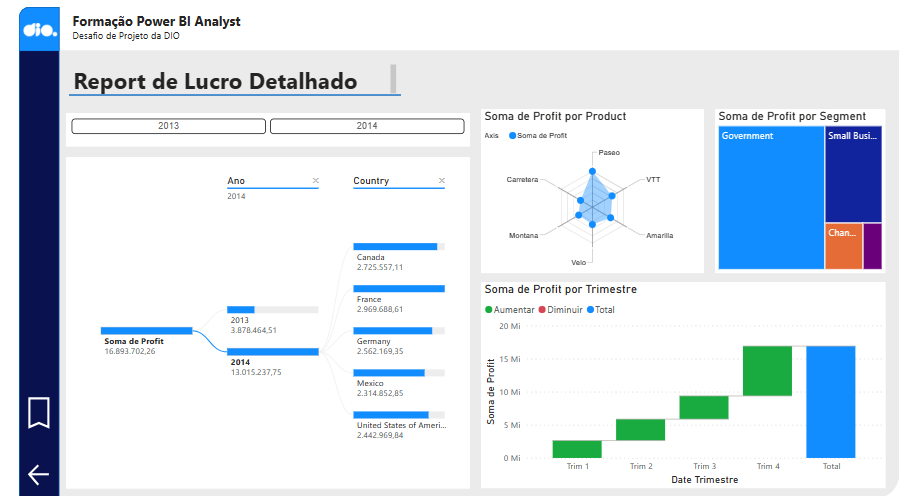

This screenshot's page, from the dashboard's own definition file:
{"tool":"powerbi","page":{"name":"Página 2","canvas":[1280,720],"ordinal":1},"visuals":[{"type":"shape","box":[42.6,20.7,1225.3,699.3],"z":0},{"type":"shape","box":[83.9,127.8,473,37.1],"z":0,"group":"g1"},{"type":"textbox","box":[85.3,97.6,470.2,52.2],"z":1000,"group":"g1"},{"type":"shape","box":[12.4,20.2,57.7,699.8],"z":1000},{"type":"shape","box":[12.4,20.6,57.7,63.2],"z":2000},{"type":"image","box":[13.7,33,57.7,39.9],"z":3000},{"type":"shape","title":"Fundo do Título","box":[71.5,20.6,1198.9,61.9],"z":4000},{"type":"textbox","title":"Título do report","box":[83.9,22,378.1,63.2],"z":5000},{"type":"shape","box":[79.7,233.7,576.1,473],"z":6000},{"type":"decompositionTreeVisual","fields":{"Analyze":["Sum(financials.Profit)"],"ExplainBy":["financials.Date.Variation.Hierarquia de datas.Ano","financials.Country"]},"box":[99.8,242.2,536.3,456.5],"z":7000},{"type":"waterfallChart","fields":{"Category":["financials.Date.Variation.Hierarquia de datas.Trimestre"],"Y":["Sum(financials.Profit)"]},"box":[670.9,412.5,577.4,294.2],"z":8000},{"type":"ChicletSlicer1448559807354","fields":{"Category":["financials.Date.Variation.Hierarquia de datas.Ano"]},"box":[79.7,170.5,576.1,48.1],"z":9000},{"type":"RadarChart1446119667547","fields":{"Category":["financials.Product"],"Y":["Sum(financials.Profit)"]},"box":[670.9,165,317.6,233.7],"z":10000},{"type":"treemap","fields":{"Values":["Sum(financials.Profit)"],"Group":["financials.Segment"]},"box":[1005,165,243.4,233.7],"z":11000},{"type":"actionButton","box":[22,666.8,48.1,39.9],"z":12000},{"type":"group","id":"g1","title":"Sales report","box":[83.9,97.6,473,67.4],"z":13000},{"type":"actionButton","box":[12.8,545.8,57,105.5],"z":14000}]}

Visuals, with their boxes on the page's 1280x720 design canvas (x1, y1, x2, y2). These are canvas units, not pixel positions in the 915x496 screenshot, which may show the page scaled, cropped or inside an application window:
shape: 43 21 1268 720
shape: 84 128 557 165
textbox: 85 98 556 150
shape: 12 20 70 720
shape: 12 21 70 84
image: 14 33 71 73
"Fundo do Título" shape: 72 21 1270 82
"Título do report" textbox: 84 22 462 85
shape: 80 234 656 707
decompositionTreeVisual - Sum(financials.Profit) x financials.Date.Variation.Hierarquia de datas.Ano: 100 242 636 699
waterfallChart - financials.Date.Variation.Hierarquia de datas.Trimestre x Sum(financials.Profit): 671 412 1248 707
ChicletSlicer1448559807354 - financials.Date.Variation.Hierarquia de datas.Ano: 80 170 656 219
RadarChart1446119667547 - financials.Product x Sum(financials.Profit): 671 165 988 399
treemap - Sum(financials.Profit) x financials.Segment: 1005 165 1248 399
actionButton: 22 667 70 707
"Sales report" group: 84 98 557 165
actionButton: 13 546 70 651
